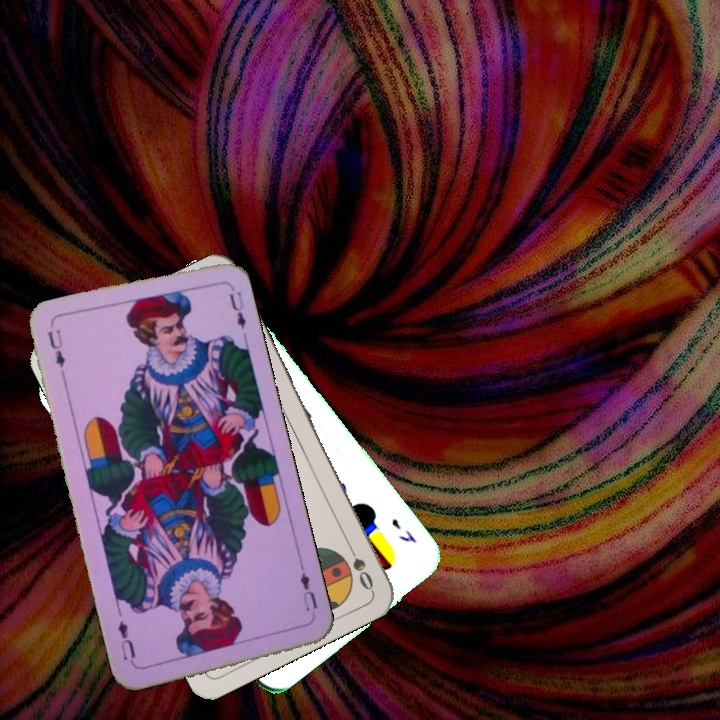EK: (387, 514, 420, 547)
EU: (295, 561, 320, 614), (43, 325, 68, 370)
SO: (342, 538, 376, 593)
